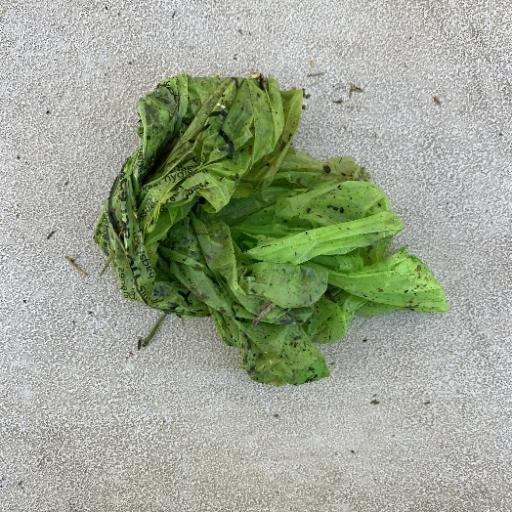Waste: (92, 71, 448, 387)
